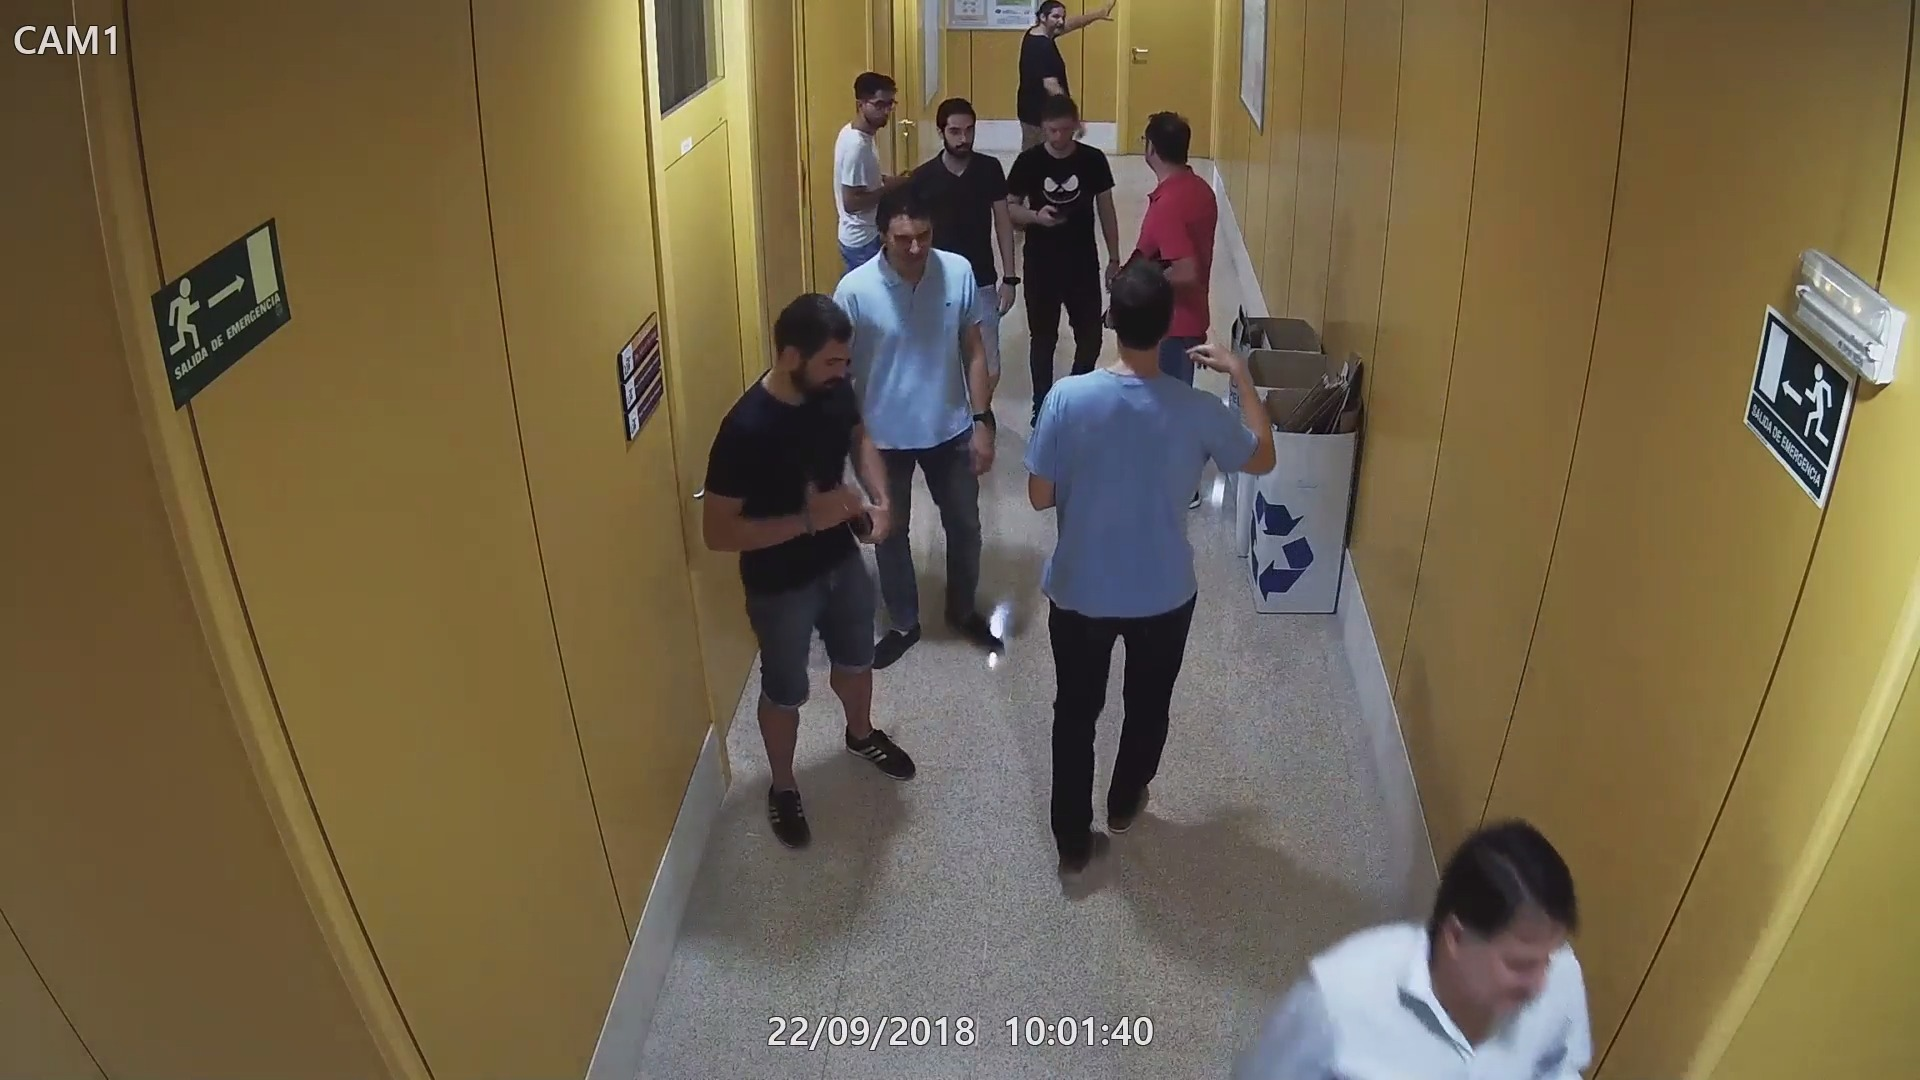Short_rifle: (786, 446, 903, 545)
